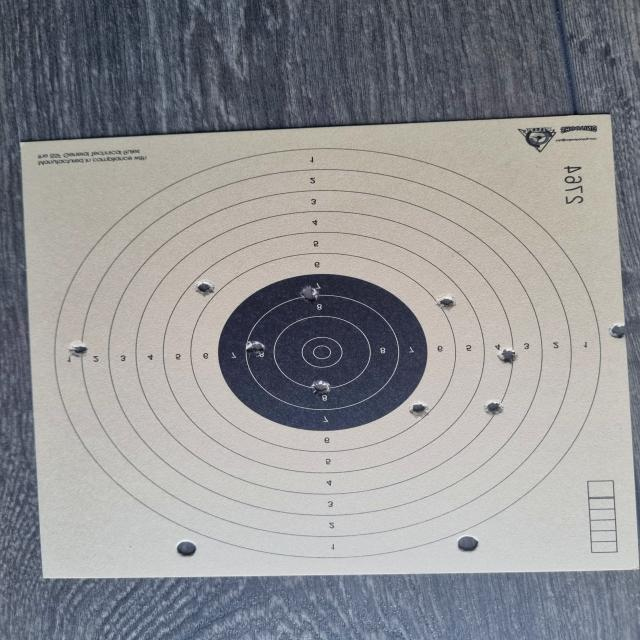0: (608, 324, 624, 339)
2: (69, 344, 88, 357)
4: (498, 348, 518, 364), (483, 402, 504, 415)
5: (194, 282, 214, 296)
6: (409, 403, 429, 418), (435, 297, 457, 310)
7: (300, 286, 317, 297)
8: (246, 341, 266, 355), (300, 293, 319, 303)
9: (311, 381, 331, 395)
Target: (56, 149, 599, 558)
black_contour: (219, 273, 428, 431)
